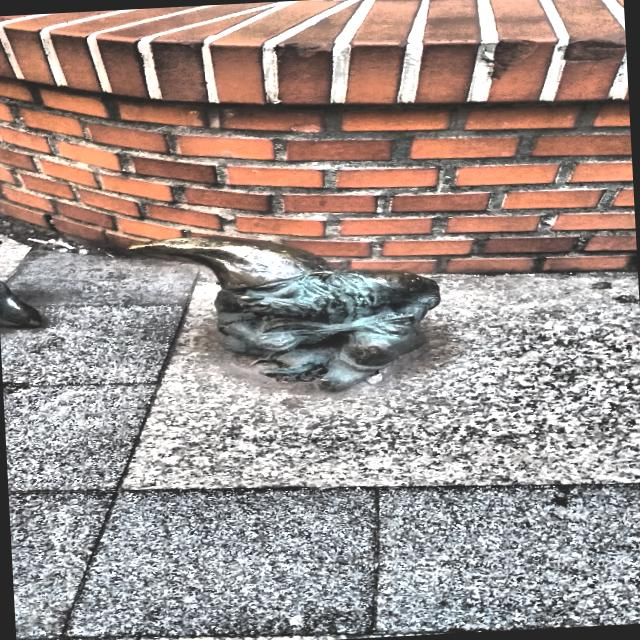Grajek_i_Meloman: (128, 238, 440, 394)
